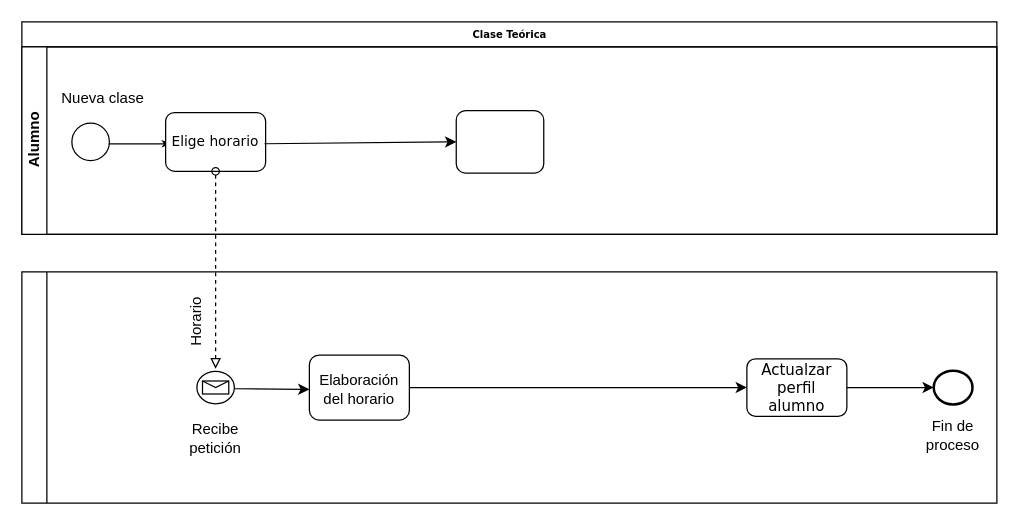
Image size: 1019x525. Some labels were removed from this diagram. The box of each missing label's shape, as (x1, y1, x2, y2) in pixels:
Dar clase teórica: (455, 109, 544, 173)
Profesor: (21, 271, 997, 503)
